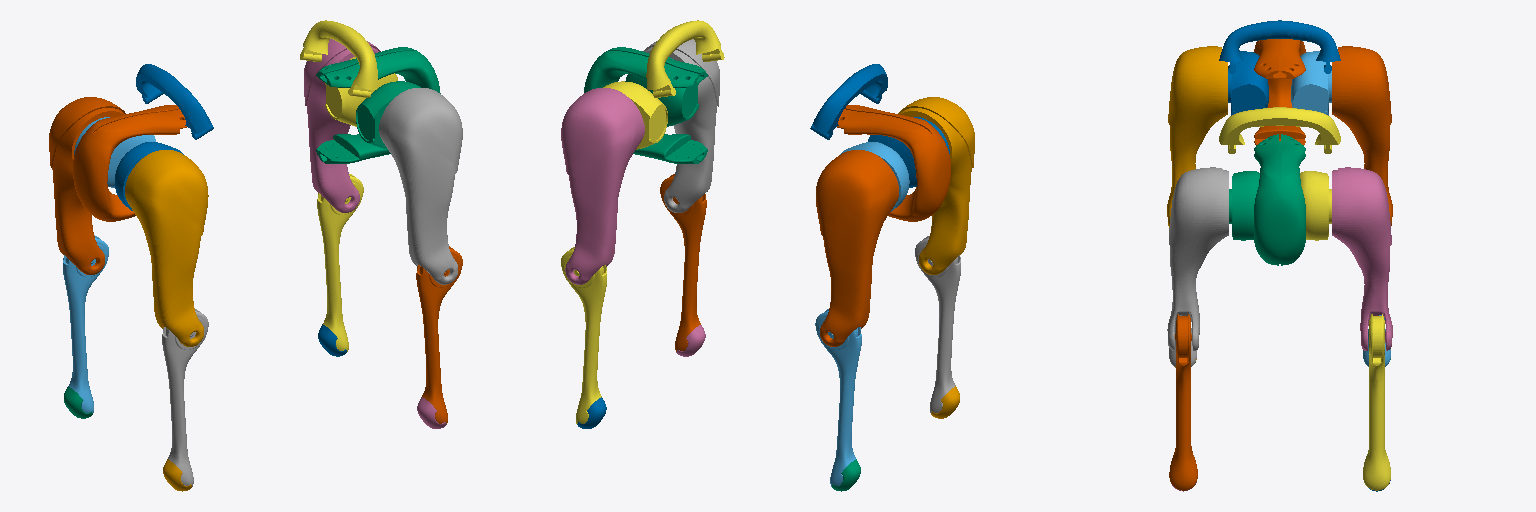
URDF robot description (bysense_description):
<?xml version="1.0" ?>
<robot name="bysense_description">

<material name="silver">
  <color rgba="0.700 0.700 0.700 1.000"/>
</material>

<link name="base_link">
  <inertial>
    <origin xyz="0.0007517460098092416 -0.0042680611333467105 -0.006864223846176162" rpy="0 0 0"/>
    <mass value="5.222193102474269"/>
    <inertia ixx="0.040227467229682026" iyy="0.09817364438523168" izz="0.1200203723201284" ixy="0.00027348190478557367" iyz="-0.00017466547786295803" ixz="1.5085495401802767e-05"/>
  </inertial>
  <visual>
    <origin xyz="0 0 0" rpy="0 0 0"/>
    <geometry>
      <mesh filename="package://bysense_description/meshes/base_link.stl" scale="0.001 0.001 0.001"/>
    </geometry>
    <material name="silver"/>
    <material/>
  </visual>
  <collision>
    <origin xyz="0 0 0" rpy="0 0 0"/>
    <geometry>
      <box size="0.3765 0.253 0.19"/>
    </geometry>
  </collision>
</link>

<link name="HL-HFE">
  <inertial>
    <origin xyz="-0.059660764958587825 0.003412203566146202 -3.4260642888354913e-09" rpy="0 0 0"/>
    <mass value="0.9157471124771052"/>
    <inertia ixx="0.0010545476575768288" iyy="0.0017051567479027044" izz="0.0012180048234135335" ixy="7.902790655650235e-05" iyz="-1.970740004307468e-11" ixz="-6.455418929801648e-13"/>
  </inertial>
  <visual>
    <origin xyz="0.188 -0.055 -0.0" rpy="0 0 0"/>
    <geometry>
      <mesh filename="package://bysense_description/meshes/HL-HFE.stl" scale="0.001 0.001 0.001"/>
    </geometry>
    <material name="silver"/>
    <material/>
  </visual>
  <collision>
    <origin xyz="-0.0625 0 0" rpy="0 0 0"/>
    <geometry>
      <box size="0.125 0.066 0.123"/>
    </geometry>
  </collision>
</link>

<link name="FR-HFE">
  <inertial>
    <origin xyz="0.059660764958587825 -0.002491163509183922 -3.4260642841690855e-09" rpy="0 0 0"/>
    <mass value="0.9157471124771052"/>
    <inertia ixx="0.0010545476575768258" iyy="0.0017051567479027044" izz="0.0012180048234135266" ixy="7.902790655650235e-05" iyz="1.9707400043074656e-11" ixz="6.455418929800614e-13"/>
  </inertial>
  <visual>
    <origin xyz="-0.188 0.055 -0.0" rpy="0 0 0"/>
    <geometry>
      <mesh filename="package://bysense_description/meshes/FR-HFE.stl" scale="0.001 0.001 0.001"/>
    </geometry>
    <material name="silver"/>
    <material/>
  </visual>
  <collision>
    <origin xyz="0.0625 0 0" rpy="0 0 0"/>
    <geometry>
      <box size="0.125 0.066 0.123"/>
    </geometry>
  </collision>
</link>

<link name="FL-HFE">
  <inertial>
    <origin xyz="0.05966070631000925 0.003412185034840115 7.973747112369575e-18" rpy="0 0 0"/>
    <mass value="0.9157482210362803"/>
    <inertia ixx="0.0010545531233950804" iyy="0.0017051625717596636" izz="0.0012180063300659266" ixy="-7.902669347617693e-05" iyz="9.616805183399949e-19" ixz="-6.1278885948030986e-18"/>
  </inertial>
  <visual>
    <origin xyz="-0.188 -0.055 -0.0" rpy="0 0 0"/>
    <geometry>
      <mesh filename="package://bysense_description/meshes/FL-HFE.stl" scale="0.001 0.001 0.001"/>
    </geometry>
    <material name="silver"/>
    <material/>
  </visual>
  <collision>
    <origin xyz="0.0625 0 0" rpy="0 0 0"/>
    <geometry>
      <box size="0.125 0.066 0.123"/>
    </geometry>
  </collision>
</link>

<link name="HR-HFE">
  <inertial>
    <origin xyz="-0.05966070631000919 -0.0034121850348400803 7.97374711236955e-18" rpy="0 0 0"/>
    <mass value="0.9157482210362807"/>
    <inertia ixx="0.0010545531233950144" iyy="0.001705162571759719" izz="0.001218006330065309" ixy="-7.902669347616999e-05" iyz="4.0256153431940345e-19" ixz="1.4170379482550358e-19"/>
  </inertial>
  <visual>
    <origin xyz="0.188 0.055 -0.0" rpy="0 0 0"/>
    <geometry>
      <mesh filename="package://bysense_description/meshes/HR-HFE.stl" scale="0.001 0.001 0.001"/>
    </geometry>
    <material name="silver"/>
    <material/>
  </visual>
  <collision>
    <origin xyz="-0.0625 0 0" rpy="0 0 0"/>
    <geometry>
      <box size="0.125 0.066 0.123"/>
    </geometry>
  </collision>
</link>

<link name="HL-LEG-UPR">
  <inertial>
    <origin xyz="-0.0025451522252100123 0.05559661235440175 -0.04271348533806577" rpy="0 0 0"/>
    <mass value="0.9468633706695582"/>
    <inertia ixx="0.005931053038207332" iyy="0.006039146411123422" izz="0.001538234694280327" ixy="5.5645330364881285e-05" iyz="0.0008535613122148556" ixz="-0.0002452893162095248"/>
  </inertial>
  <visual>
    <origin xyz="0.255 -0.093079 0.0" rpy="0 0 0"/>
    <geometry>
      <mesh filename="package://bysense_description/meshes/HL-LEG-UPR.stl" scale="0.001 0.001 0.001"/>
    </geometry>
    <material name="silver"/>
    <material/>
  </visual>
  <collision>
    <origin xyz="0 0.048 -0.07" rpy="0 1.5707 0"/>
    <geometry>
      <box size="0.345 0.11 0.13"/>
    </geometry>
  </collision>
</link>

<link name="FL-LEG-UPR">
  <inertial>
    <origin xyz="-0.0025451522252098457 0.05559661235440183 -0.04271348533806611" rpy="0 0 0"/>
    <mass value="0.9468633706695592"/>
    <inertia ixx="0.005931053038207349" iyy="0.006039146411123422" izz="0.001538234694280327" ixy="5.564533036486741e-05" iyz="0.0008535613122148539" ixz="-0.0002452893162095092"/>
  </inertial>
  <visual>
    <origin xyz="-0.255 -0.093079 -0.0" rpy="0 0 0"/>
    <geometry>
      <mesh filename="package://bysense_description/meshes/FL-LEG-UPR.stl" scale="0.001 0.001 0.001"/>
    </geometry>
    <material name="silver"/>
    <material/>
  </visual>
  <collision>
    <origin xyz="0 0.048 -0.07" rpy="0 1.5707 0"/>
    <geometry>
      <box size="0.345 0.11 0.13"/>
    </geometry>
  </collision>
</link>

<link name="FR-LEG-UPR">
  <inertial>
    <origin xyz="-0.0025459498116122137 -0.055596590231801926 -0.04271466073540397" rpy="0 0 0"/>
    <mass value="0.946845058396737"/>
    <inertia ixx="0.005930994985124366" iyy="0.006039075384416878" izz="0.0015381838031293948" ixy="-5.564417764098578e-05" iyz="-0.0008535592419019484" ixz="-0.00024526021658218856"/>
  </inertial>
  <visual>
    <origin xyz="-0.255 0.092158 -0.0" rpy="0 0 0"/>
    <geometry>
      <mesh filename="package://bysense_description/meshes/FR-LEG-UPR.stl" scale="0.001 0.001 0.001"/>
    </geometry>
    <material name="silver"/>
    <material/>
  </visual>
  <collision>
    <origin xyz="0 -0.048 -0.07" rpy="0 1.5707 0"/>
    <geometry>
      <box size="0.345 0.11 0.13"/>
    </geometry>
  </collision>
</link>

<link name="HR-LEG-UPR">
  <inertial>
    <origin xyz="-0.002545949811612158 -0.05559663028876427 -0.04271466073540376" rpy="0 0 0"/>
    <mass value="0.9468450583967375"/>
    <inertia ixx="0.005930994985124442" iyy="0.0060390753844168504" izz="0.001538183803129381" ixy="-5.564417764099272e-05" iyz="-0.000853559241901951" ixz="-0.0002452602165821851"/>
  </inertial>
  <visual>
    <origin xyz="0.255 0.093079 -0.0" rpy="0 0 0"/>
    <geometry>
      <mesh filename="package://bysense_description/meshes/HR-LEG-UPR.stl" scale="0.001 0.001 0.001"/>
    </geometry>
    <material name="silver"/>
    <material/>
  </visual>
  <collision>
    <origin xyz="0 -0.048 -0.07" rpy="0 1.5707 0"/>
    <geometry>
      <box size="0.345 0.11 0.13"/>
    </geometry>
  </collision>
</link>

<link name="HL-LEG-LWR">
  <inertial>
    <origin xyz="-0.010388432669448333 -0.01500046856212811 -0.10452640089213988" rpy="0 0 0"/>
    <mass value="0.33525084456822823"/>
    <inertia ixx="0.003930196788336858" iyy="0.003994214155444639" izz="0.00010910671706420433" ixy="-7.855362887942974e-11" iyz="-6.244845057734594e-10" ixz="-0.00012849410652210347"/>
  </inertial>
  <visual>
    <origin xyz="0.24 -0.187684 0.25" rpy="0 0 0"/>
    <geometry>
      <mesh filename="package://bysense_description/meshes/HL-LEG-LWR.stl" scale="0.001 0.001 0.001"/>
    </geometry>
    <material name="silver"/>
    <material/>
  </visual>
  <collision>
    <origin xyz="0 -0.015 -0.15" rpy="0 1.5707 0"/>
    <geometry>
      <box size="0.308 0.045 0.09"/>
    </geometry>
  </collision>
</link>

<link name="HL-FOOT">
  <inertial>
    <origin xyz="-0.027234422154866073 -4.2922740373096957e-07 0.021496390823536715" rpy="0 0 0"/>
    <mass value="0.010726679502064625"/>
    <inertia ixx="4.849536552949986e-06" iyy="3.6477958854463748e-06" izz="3.88326364084016e-06" ixy="-2.1215452897065112e-12" iyz="-5.8332639933655894e-12" ixz="1.1148929757274096e-06"/>
  </inertial>
  <visual>
    <origin xyz="0.235187 -0.172684 0.548751" rpy="0 0 0"/>
    <geometry>
      <mesh filename="package://bysense_description/meshes/HL-FOOT.stl" scale="0.001 0.001 0.001"/>
    </geometry>
    <material name="silver"/>
    <material/>
  </visual>
  <collision>
    <origin xyz="-0.032 0 -0.005" rpy="0 -0.35 0"/>
    <geometry>
      <sphere radius="0.032"/>
    </geometry>
  </collision>
</link>

<link name="FL-LEG-LWR">
  <inertial>
    <origin xyz="-0.010388432669448056 -0.015000468562127944 -0.10452640089214349" rpy="0 0 0"/>
    <mass value="0.3352508445682348"/>
    <inertia ixx="0.00393019678833708" iyy="0.003994214155444847" izz="0.00010910671706420433" ixy="-7.855363234887669e-11" iyz="-6.244844953651185e-10" ixz="-0.00012849410652210694"/>
  </inertial>
  <visual>
    <origin xyz="-0.27 -0.187684 0.25" rpy="0 0 0"/>
    <geometry>
      <mesh filename="package://bysense_description/meshes/FL-LEG-LWR.stl" scale="0.001 0.001 0.001"/>
    </geometry>
    <material name="silver"/>
    <material/>
  </visual>
  <collision>
    <origin xyz="0 -0.015 -0.15" rpy="0 1.5707 0"/>
    <geometry>
      <box size="0.308 0.045 0.09"/>
    </geometry>
  </collision>
</link>

<link name="FL-FOOT">
  <inertial>
    <origin xyz="-0.027234422154865823 -4.2922740339790266e-07 0.021496390823536715" rpy="0 0 0"/>
    <mass value="0.010726679502064625"/>
    <inertia ixx="4.849536552948685e-06" iyy="3.6477958854520126e-06" izz="3.88326364084016e-06" ixy="-2.1215452354964026e-12" iyz="-5.8332639933655894e-12" ixz="1.1148929757263254e-06"/>
  </inertial>
  <visual>
    <origin xyz="-0.274813 -0.172684 0.548751" rpy="0 0 0"/>
    <geometry>
      <mesh filename="package://bysense_description/meshes/FL-FOOT.stl" scale="0.001 0.001 0.001"/>
    </geometry>
    <material name="silver"/>
    <material/>
  </visual>
  <collision>
    <origin xyz="-0.032 0 -0.005" rpy="0 -0.35 0"/>
    <geometry>
      <sphere radius="0.032"/>
    </geometry>
  </collision>
</link>

<link name="FR-LEG-LWR">
  <inertial>
    <origin xyz="-0.010388432669448167 -0.015000348391241397 -0.10452640089214277" rpy="0 0 0"/>
    <mass value="0.33525084456823345"/>
    <inertia ixx="0.0039301967883370315" iyy="0.0039942141554448335" izz="0.00010910671706421127" ixy="-7.855362714470626e-11" iyz="-6.244844988345655e-10" ixz="-0.00012849410652209653"/>
  </inertial>
  <visual>
    <origin xyz="-0.27 0.156553 0.25" rpy="0 0 0"/>
    <geometry>
      <mesh filename="package://bysense_description/meshes/FR-LEG-LWR.stl" scale="0.001 0.001 0.001"/>
    </geometry>
    <material name="silver"/>
    <material/>
  </visual>
  <collision>
    <origin xyz="0 -0.015 -0.15" rpy="0 1.5707 0"/>
    <geometry>
      <box size="0.308 0.045 0.09"/>
    </geometry>
  </collision>
</link>

<link name="FR-FOOT">
  <inertial>
    <origin xyz="-0.027234422154865934 -3.0905651679513646e-07 0.021496390823536715" rpy="0 0 0"/>
    <mass value="0.010726679502064625"/>
    <inertia ixx="4.849536552948685e-06" iyy="3.6477958854524463e-06" izz="3.883263640840594e-06" ixy="-2.12154534391662e-12" iyz="-5.833264101785807e-12" ixz="1.114892975726759e-06"/>
  </inertial>
  <visual>
    <origin xyz="-0.274813 0.171553 0.548751" rpy="0 0 0"/>
    <geometry>
      <mesh filename="package://bysense_description/meshes/FR-FOOT.stl" scale="0.001 0.001 0.001"/>
    </geometry>
    <material name="silver"/>
    <material/>
  </visual>
  <collision>
    <origin xyz="-0.032 0 -0.005" rpy="0 -0.35 0"/>
    <geometry>
      <sphere radius="0.032"/>
    </geometry>
  </collision>
</link>

<link name="HR-LEG-LWR">
  <inertial>
    <origin xyz="-0.010388432669448389 -0.015000388448203644 -0.10452640089214227" rpy="0 0 0"/>
    <mass value="0.3352508445682324"/>
    <inertia ixx="0.003930196788337052" iyy="0.003994214155444792" izz="0.00010910671706420433" ixy="-7.855363061415321e-11" iyz="-6.244845057734594e-10" ixz="-0.00012849410652210347"/>
  </inertial>
  <visual>
    <origin xyz="0.24 0.157474 0.25" rpy="0 0 0"/>
    <geometry>
      <mesh filename="package://bysense_description/meshes/HR-LEG-LWR.stl" scale="0.001 0.001 0.001"/>
    </geometry>
    <material name="silver"/>
    <material/>
  </visual>
  <collision>
    <origin xyz="0 -0.015 -0.15" rpy="0 1.5707 0"/>
    <geometry>
      <box size="0.308 0.045 0.09"/>
    </geometry>
  </collision>
</link>

<link name="HR-FOOT">
  <inertial>
    <origin xyz="-0.027234422154866184 -3.491134788480288e-07 0.02149639082353605" rpy="0 0 0"/>
    <mass value="0.010726679502064625"/>
    <inertia ixx="4.84953655295042e-06" iyy="3.6477958854507116e-06" izz="3.88326364084016e-06" ixy="-2.12154534391662e-12" iyz="-5.833264210206024e-12" ixz="1.114892975726759e-06"/>
  </inertial>
  <visual>
    <origin xyz="0.235187 0.172474 0.548751" rpy="0 0 0"/>
    <geometry>
      <mesh filename="package://bysense_description/meshes/HR-FOOT.stl" scale="0.001 0.001 0.001"/>
    </geometry>
    <material name="silver"/>
    <material/>
  </visual>
  <collision>
    <origin xyz="-0.032 0 -0.005" rpy="0 -0.35 0"/>
    <geometry>
      <sphere radius="0.032"/>
    </geometry>
  </collision>
</link>

<link name="imu_link">
  <inertial>
    <origin xyz="0.0 0.0 -0.003" rpy="0 0 0"/>
    <mass value="0.0016956000000000004"/>
    <inertia ixx="1.0173600000000004e-08" iyy="1.0173600000000004e-08" izz="1.0173600000000004e-08" ixy="0.0" iyz="0.0" ixz="0.0"/>
  </inertial>
</link>

<link name="F-BUMPER">
  <inertial>
    <origin xyz="0.10860983050799258 -0.029000056500411986 -0.06950007191723423" rpy="0 0 0"/>
    <mass value="1.05815961430517"/>
    <inertia ixx="0.004341144033304229" iyy="0.007516467380818612" izz="0.004098517655642522" ixy="7.772239341346051e-10" iyz="-2.7619496506884147e-09" ixz="-6.453540369370796e-09"/>
  </inertial>
  <visual>
    <origin xyz="-0.167 -0.029 -0.0695" rpy="0 0 0"/>
    <geometry>
      <mesh filename="package://bysense_description/meshes/F-BUMPER.stl" scale="0.001 0.001 0.001"/>
    </geometry>
    <material name="silver"/>
    <material/>
  </visual>
  <collision>
    <origin xyz="0.105 -0.028 -0.07" rpy="0 0 0"/>
    <geometry>
      <box size="0.162 0.087 0.19"/>
    </geometry>
  </collision>
</link>

<link name="F-HANDLE">
  <inertial>
    <origin xyz="0.03081761608608216 -0.08913655327161568 0.025892594752809833" rpy="0 0 0"/>
    <mass value="0.23239562552187787"/>
    <inertia ixx="0.0011116779043745806" iyy="0.00013983106810761155" izz="0.0010342652995403157" ixy="2.2577889577847994e-09" iyz="1.7951324747295179e-09" ixz="-3.5208539586609015e-05"/>
  </inertial>
  <visual>
    <origin xyz="-0.145731 -0.089137 -0.097659" rpy="0 0 0"/>
    <geometry>
      <mesh filename="package://bysense_description/meshes/F-HANDLE.stl" scale="0.001 0.001 0.001"/>
    </geometry>
    <material name="silver"/>
    <material/>
  </visual>
  <collision>
    <origin xyz="0.023 -0.087 0.027" rpy="0 0 0"/>
    <geometry>
      <box size="0.038 0.212 0.063"/>
    </geometry>
  </collision>
</link>

<link name="H-HANDLE">
  <inertial>
    <origin xyz="-0.030817628744036624 -0.0891372636259085 0.025892831920000803" rpy="0 0 0"/>
    <mass value="0.23239528510695995"/>
    <inertia ixx="0.0011116690117068382" iyy="0.00013982890907537557" izz="0.0010342584053496069" ixy="-3.2356398334326263e-10" iyz="-1.5577729917624179e-09" ixz="3.5208255713165167e-05"/>
  </inertial>
  <visual>
    <origin xyz="0.145731 -0.089137 -0.097659" rpy="0 0 0"/>
    <geometry>
      <mesh filename="package://bysense_description/meshes/H-HANDLE.stl" scale="0.001 0.001 0.001"/>
    </geometry>
    <material name="silver"/>
    <material/>
  </visual>
  <collision>
    <origin xyz="-0.023 -0.087 0.027" rpy="0 0 0"/>
    <geometry>
      <box size="0.038 0.212 0.063"/>
    </geometry>
  </collision>
</link>

<link name="H-BUMPER">
  <inertial>
    <origin xyz="-0.10860886359284169 -0.029000001916913404 -0.06950006016418325" rpy="0 0 0"/>
    <mass value="1.058143426656195"/>
    <inertia ixx="0.004341108474254504" iyy="0.007516377024668841" izz="0.00409844036953369" ixy="2.5493886214053613e-09" iyz="-7.366439940652433e-09" ixz="7.80909460644768e-09"/>
  </inertial>
  <visual>
    <origin xyz="0.167 -0.029 -0.0695" rpy="0 0 0"/>
    <geometry>
      <mesh filename="package://bysense_description/meshes/H-BUMPER.stl" scale="0.001 0.001 0.001"/>
    </geometry>
    <material name="silver"/>
    <material/>
  </visual>
  <collision>
    <origin xyz="-0.105 -0.028 -0.07" rpy="0 0 0"/>
    <geometry>
      <box size="0.162 0.087 0.19"/>
    </geometry>
  </collision>
</link>

<joint name="10-HL-HAA" type="revolute">
  <origin xyz="-0.188 0.055 0.0" rpy="0 0 0"/>
  <parent link="base_link"/>
  <child link="HL-HFE"/>
  <axis xyz="-1.0 0.0 0.0"/>
  <limit upper="0.523599" lower="-0.523599" effort="20" velocity="60"/>
</joint>

<joint name="4-FR-HAA" type="revolute">
  <origin xyz="0.188 -0.055 0.0" rpy="0 0 0"/>
  <parent link="base_link"/>
  <child link="FR-HFE"/>
  <axis xyz="1.0 0.0 0.0"/>
  <limit upper="0.523599" lower="-0.523599" effort="20" velocity="60"/>
</joint>

<joint name="1-FL-HAA" type="revolute">
  <origin xyz="0.188 0.055 0.0" rpy="0 0 0"/>
  <parent link="base_link"/>
  <child link="FL-HFE"/>
  <axis xyz="1.0 0.0 0.0"/>
  <limit upper="0.523599" lower="-0.523599" effort="20" velocity="60"/>
</joint>

<joint name="7-HR-HAA" type="revolute">
  <origin xyz="-0.188 -0.055 0.0" rpy="0 0 0"/>
  <parent link="base_link"/>
  <child link="HR-HFE"/>
  <axis xyz="-1.0 0.0 0.0"/>
  <limit upper="0.523599" lower="-0.523599" effort="20" velocity="60"/>
</joint>

<joint name="11-HL-HFE" type="revolute">
  <origin xyz="-0.067 0.038079 -0.0" rpy="0 0 0"/>
  <parent link="HL-HFE"/>
  <child link="HL-LEG-UPR"/>
  <axis xyz="-0.0 1.0 0.0"/>
  <limit upper="2.617994" lower="-0.698132" effort="20" velocity="60"/>
</joint>

<joint name="2-FL-HFE" type="revolute">
  <origin xyz="0.067 0.038079 0.0" rpy="0 0 0"/>
  <parent link="FL-HFE"/>
  <child link="FL-LEG-UPR"/>
  <axis xyz="0.0 1.0 0.0"/>
  <limit upper="2.617994" lower="-0.698132" effort="20" velocity="60"/>
</joint>

<joint name="5-FR-HFE" type="revolute">
  <origin xyz="0.067 -0.037158 0.0" rpy="0 0 0"/>
  <parent link="FR-HFE"/>
  <child link="FR-LEG-UPR"/>
  <axis xyz="0.0 -1.0 0.0"/>
  <limit upper="0.872665" lower="-2.443461" effort="20" velocity="60"/>
</joint>

<joint name="8-HR-HFE" type="revolute">
  <origin xyz="-0.067 -0.038079 0.0" rpy="0 0 0"/>
  <parent link="HR-HFE"/>
  <child link="HR-LEG-UPR"/>
  <axis xyz="-0.0 -1.0 0.0"/>
  <limit upper="0.872665" lower="-2.443461" effort="20" velocity="60"/>
</joint>

<joint name="12-HL-KFE" type="revolute">
  <origin xyz="0.015 0.094605 -0.25" rpy="0 0 0"/>
  <parent link="HL-LEG-UPR"/>
  <child link="HL-LEG-LWR"/>
  <axis xyz="0.0 -1.0 -0.0"/>
  <limit upper="2.949606" lower="-0.349066" effort="20" velocity="60"/>
</joint>

<joint name="HR-Foot" type="fixed">
  <origin xyz="0.004813 -0.015 -0.298751" rpy="0 0 0"/>
  <parent link="HL-LEG-LWR"/>
  <child link="HL-FOOT"/>
</joint>

<joint name="3-FL-KFE" type="revolute">
  <origin xyz="0.015 0.094605 -0.25" rpy="0 0 0"/>
  <parent link="FL-LEG-UPR"/>
  <child link="FL-LEG-LWR"/>
  <axis xyz="-0.0 -1.0 -0.0"/>
  <limit upper="2.949606" lower="-0.349066" effort="20" velocity="60"/>
</joint>

<joint name="FR-Foot" type="fixed">
  <origin xyz="0.004813 -0.015 -0.298751" rpy="0 0 0"/>
  <parent link="FL-LEG-LWR"/>
  <child link="FL-FOOT"/>
</joint>

<joint name="6-FR-KFE" type="revolute">
  <origin xyz="0.015 -0.064395 -0.25" rpy="0 0 0"/>
  <parent link="FR-LEG-UPR"/>
  <child link="FR-LEG-LWR"/>
  <axis xyz="-0.0 1.0 -0.0"/>
  <limit upper="0.349066" lower="-2.949606" effort="20" velocity="60"/>
</joint>

<joint name="FL-Foot" type="fixed">
  <origin xyz="0.004813 -0.015 -0.298751" rpy="0 0 0"/>
  <parent link="FR-LEG-LWR"/>
  <child link="FR-FOOT"/>
</joint>

<joint name="9-HR-KFE" type="revolute">
  <origin xyz="0.015 -0.064395 -0.25" rpy="0 0 0"/>
  <parent link="HR-LEG-UPR"/>
  <child link="HR-LEG-LWR"/>
  <axis xyz="0.0 1.0 0.0"/>
  <limit upper="0.349066" lower="-2.949606" effort="20" velocity="60"/>
</joint>

<joint name="HL-Foot" type="fixed">
  <origin xyz="0.004813 -0.015 -0.298751" rpy="0 0 0"/>
  <parent link="HR-LEG-LWR"/>
  <child link="HR-FOOT"/>
</joint>

<joint name="imu_link" type="fixed">
  <origin xyz="0.0 0.0 0.003" rpy="0 0 0"/>
  <parent link="base_link"/>
  <child link="imu_link"/>
</joint>

<joint name="F-BUMPER" type="fixed">
  <origin xyz="0.167 0.029 0.0695" rpy="0 0 0"/>
  <parent link="base_link"/>
  <child link="F-BUMPER"/>
</joint>

<joint name="F-HANDLE" type="fixed">
  <origin xyz="0.145731 0.089137 0.097659" rpy="0 0 0"/>
  <parent link="base_link"/>
  <child link="F-HANDLE"/>
</joint>

<joint name="H-HANDLE" type="fixed">
  <origin xyz="-0.145731 0.089137 0.097659" rpy="0 0 0"/>
  <parent link="base_link"/>
  <child link="H-HANDLE"/>
</joint>

<joint name="H-BUMPER" type="fixed">
  <origin xyz="-0.167 0.029 0.0695" rpy="0 0 0"/>
  <parent link="base_link"/>
  <child link="H-BUMPER"/>
</joint>

</robot>

--- Facts derived from the render (not from the file) ---
Views: 3 orthographic renders of the robot side by side, from view 1: azimuth 30°, elevation 25°; view 2: azimuth 150°, elevation 25°; view 3: azimuth 270°, elevation 25°.
Robot: bysense_description — 22 links, 21 joints (12 revolute, 9 fixed); root link base_link; default pose: all joints at 0.
Links seen in each view (by area): view 1: HR-LEG-UPR, FR-LEG-UPR, HL-LEG-UPR, H-BUMPER, FL-LEG-UPR, F-BUMPER, HR-LEG-LWR, FR-LEG-LWR, FL-LEG-LWR, HL-LEG-LWR, F-HANDLE, H-HANDLE (+4 smaller); view 2: HL-LEG-UPR, FL-LEG-UPR, HR-LEG-UPR, H-BUMPER, FR-LEG-UPR, F-BUMPER, HL-LEG-LWR, FL-LEG-LWR, FR-LEG-LWR, HR-LEG-LWR, F-HANDLE, H-HANDLE (+4 smaller); view 3: FR-LEG-UPR, FL-LEG-UPR, F-BUMPER, HR-LEG-UPR, HL-LEG-UPR, FL-LEG-LWR, H-BUMPER, FR-LEG-LWR, F-HANDLE, H-HANDLE, HL-HFE, HR-HFE (+2 smaller).
Boxes of the visible links, x1=… form: HR-LEG-UPR: x1=125, y1=150, x2=208, y2=346; FR-LEG-UPR: x1=379, y1=88, x2=462, y2=284; HL-LEG-UPR: x1=49, y1=97, x2=125, y2=274; H-BUMPER: x1=73, y1=105, x2=186, y2=221; FL-LEG-UPR: x1=304, y1=39, x2=380, y2=212; F-BUMPER: x1=316, y1=47, x2=440, y2=163; HR-LEG-LWR: x1=162, y1=309, x2=208, y2=486; FR-LEG-LWR: x1=416, y1=246, x2=462, y2=423; FL-LEG-LWR: x1=317, y1=174, x2=363, y2=351; HL-LEG-LWR: x1=63, y1=235, x2=108, y2=412; F-HANDLE: x1=300, y1=20, x2=377, y2=97; H-HANDLE: x1=136, y1=64, x2=213, y2=139; HL-LEG-UPR: x1=816, y1=150, x2=898, y2=346; FL-LEG-UPR: x1=561, y1=88, x2=644, y2=284; HR-LEG-UPR: x1=898, y1=97, x2=974, y2=274; H-BUMPER: x1=837, y1=105, x2=950, y2=221; FR-LEG-UPR: x1=643, y1=39, x2=719, y2=212; F-BUMPER: x1=584, y1=47, x2=707, y2=163; HL-LEG-LWR: x1=815, y1=309, x2=861, y2=486; FL-LEG-LWR: x1=561, y1=247, x2=606, y2=423; FR-LEG-LWR: x1=660, y1=174, x2=706, y2=351; HR-LEG-LWR: x1=915, y1=236, x2=960, y2=412; F-HANDLE: x1=646, y1=20, x2=724, y2=97; H-HANDLE: x1=810, y1=64, x2=887, y2=139; FR-LEG-UPR: x1=1167, y1=167, x2=1228, y2=350; FL-LEG-UPR: x1=1332, y1=167, x2=1392, y2=350; F-BUMPER: x1=1254, y1=134, x2=1305, y2=265; HR-LEG-UPR: x1=1167, y1=46, x2=1227, y2=227; HL-LEG-UPR: x1=1332, y1=46, x2=1392, y2=225; FL-LEG-LWR: x1=1363, y1=314, x2=1390, y2=490; H-BUMPER: x1=1254, y1=39, x2=1305, y2=144; FR-LEG-LWR: x1=1169, y1=314, x2=1197, y2=490; F-HANDLE: x1=1219, y1=107, x2=1340, y2=153; H-HANDLE: x1=1219, y1=20, x2=1340, y2=73; HL-HFE: x1=1291, y1=51, x2=1331, y2=115; HR-HFE: x1=1228, y1=51, x2=1268, y2=115.
Size in the robot's own frame: 0.7061 by 0.4025 by 0.714 metres.
20 mesh visuals loaded from 21 distinct referenced files (20 binary STL); not drawn: 1 (reference not matched to a file when rendering).